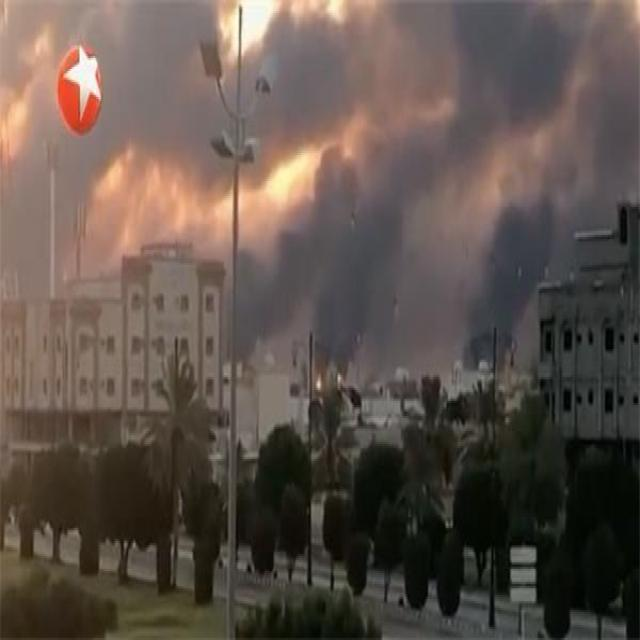smoke: (390, 0, 559, 276), (258, 182, 373, 336)
